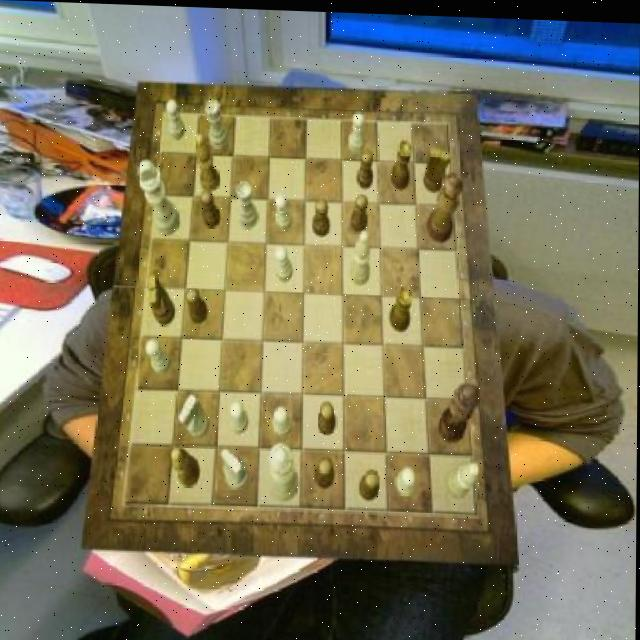bishop: (196, 132, 221, 191), (173, 445, 202, 486)
black-bishop: (441, 379, 481, 440)
black-king: (149, 275, 177, 325), (423, 144, 451, 189)
black-knight: (186, 287, 209, 324), (202, 189, 222, 228), (357, 147, 375, 188), (312, 195, 330, 233), (351, 192, 368, 231), (316, 454, 336, 487), (319, 398, 337, 433), (360, 468, 380, 499)
black-pawn: (427, 169, 463, 242)
black-queen: (391, 136, 412, 188), (391, 282, 414, 328)
black-rook: (447, 458, 480, 495), (351, 227, 371, 282)
white-bishop: (137, 158, 180, 235)
white-king: (179, 393, 210, 438), (222, 445, 250, 488)
white-knight: (146, 338, 172, 375), (166, 99, 185, 139), (274, 191, 292, 229), (396, 462, 417, 494), (349, 110, 365, 152), (230, 399, 249, 433), (273, 404, 293, 435), (276, 244, 293, 280)
white-pawn: (270, 440, 300, 500)
white-queen: (205, 97, 229, 147), (237, 181, 258, 228)
